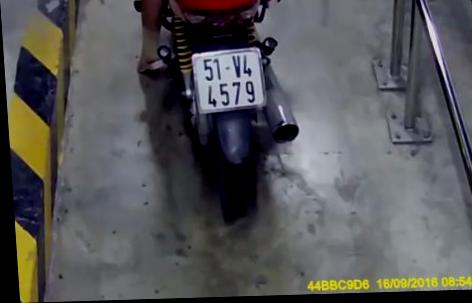License_Plate: (185, 43, 270, 119)
